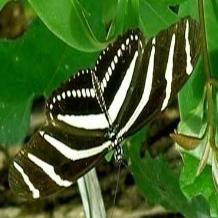butterfly: (8, 20, 197, 199)
